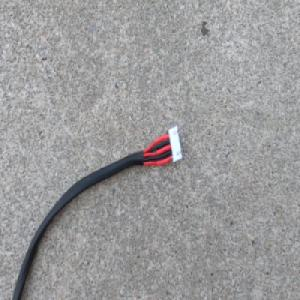Wire: (10, 123, 183, 300)
